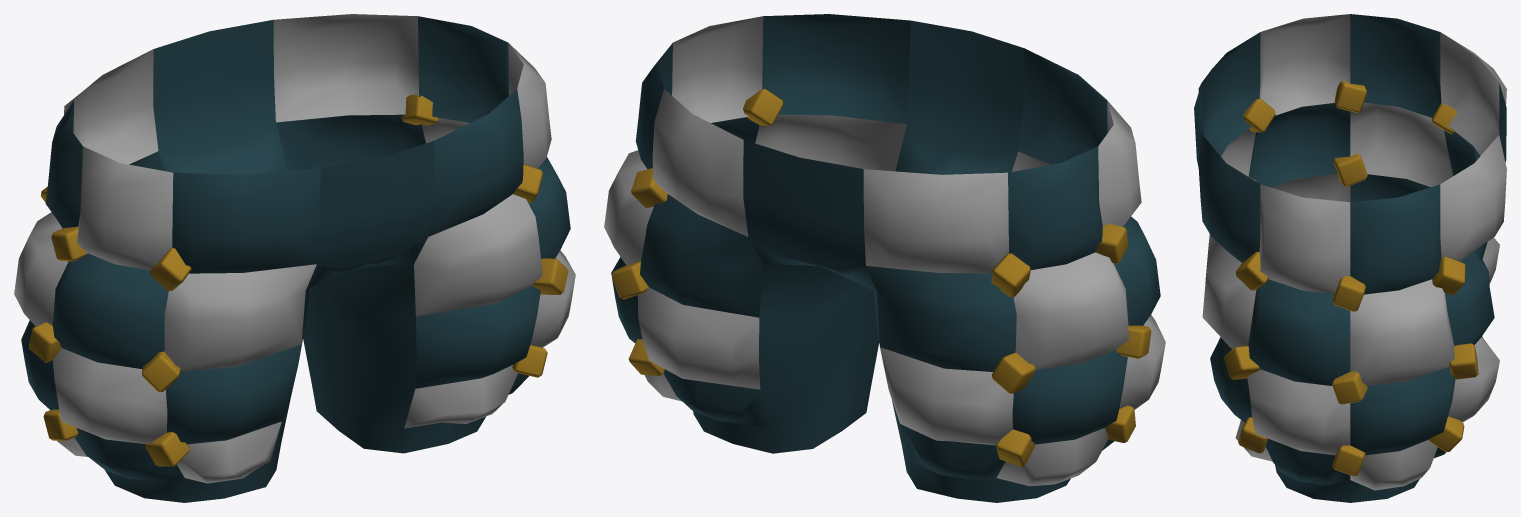
File: Admiral_Legs.fbx
3 views of the same model, side by side, from view 1: azimuth 30°, elevation 25°; view 2: azimuth 150°, elevation 25°; view 3: azimuth 270°, elevation 25° (orthographic). The views are drawn at different scales.
Parts seen in each view (by area): view 1: RightLeg; view 2: RightLeg; view 3: RightLeg.
Part boxes in pixels (x1=…): RightLeg: x1=14, y1=14, x2=575, y2=502; RightLeg: x1=604, y1=14, x2=1165, y2=502; RightLeg: x1=1194, y1=14, x2=1506, y2=502.
Bounding box in the file's own units: 33.87 × 21.45 × 19.32.
